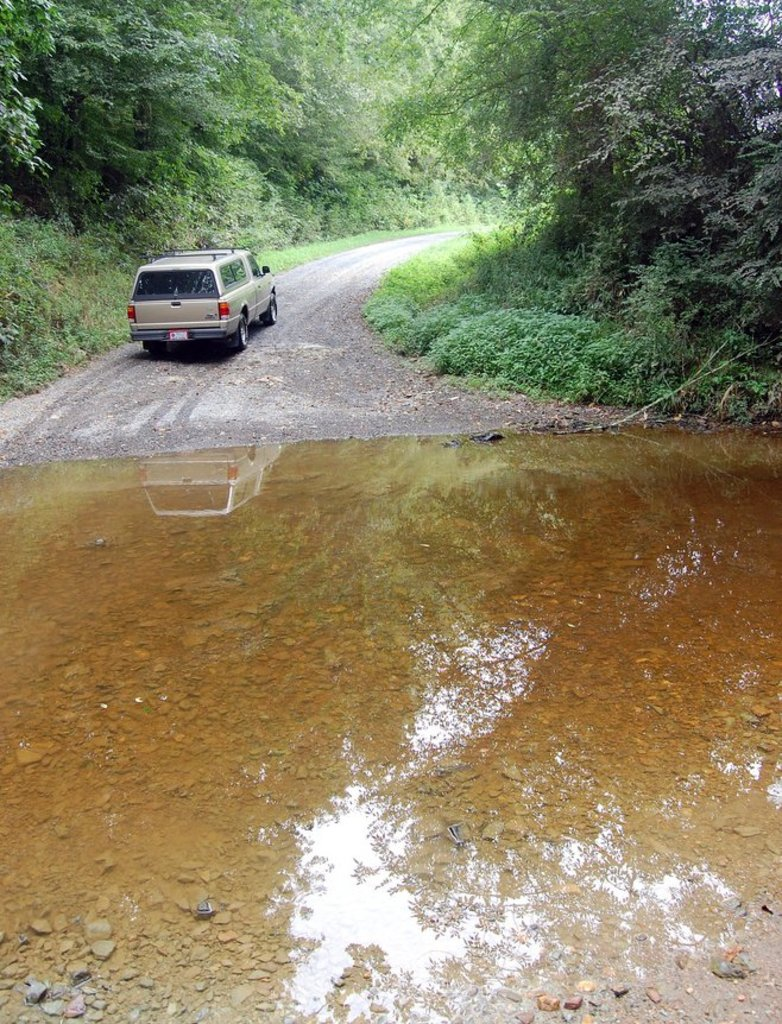mobil: (120, 242, 295, 362)
